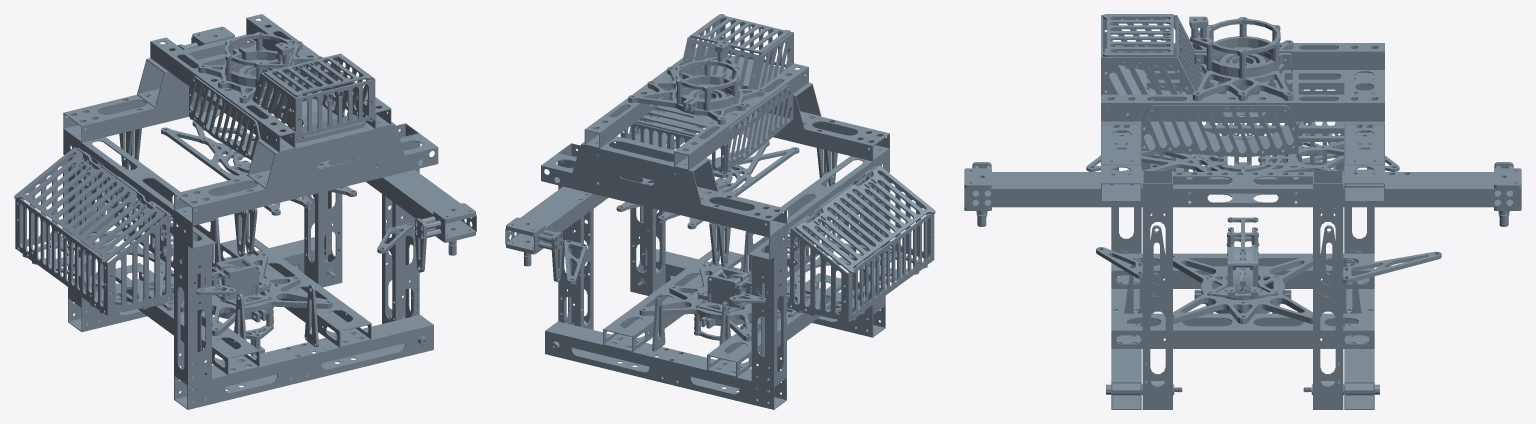
Rendered from sentry.glb.
3 views of the same model, side by side, from view 1: azimuth 30°, elevation 25°; view 2: azimuth 150°, elevation 25°; view 3: azimuth 270°, elevation 25° (orthographic). The views are drawn at different scales.
Parts seen in each view (by area): view 1: sentry_chassis; view 2: sentry_chassis; view 3: sentry_chassis.
Part boxes in pixels (<box>): sentry_chassis: <box>14,14,476,409</box>; sentry_chassis: <box>505,14,935,409</box>; sentry_chassis: <box>964,14,1521,409</box>.
Size of the model in its own units: 395 by 360 by 550.
